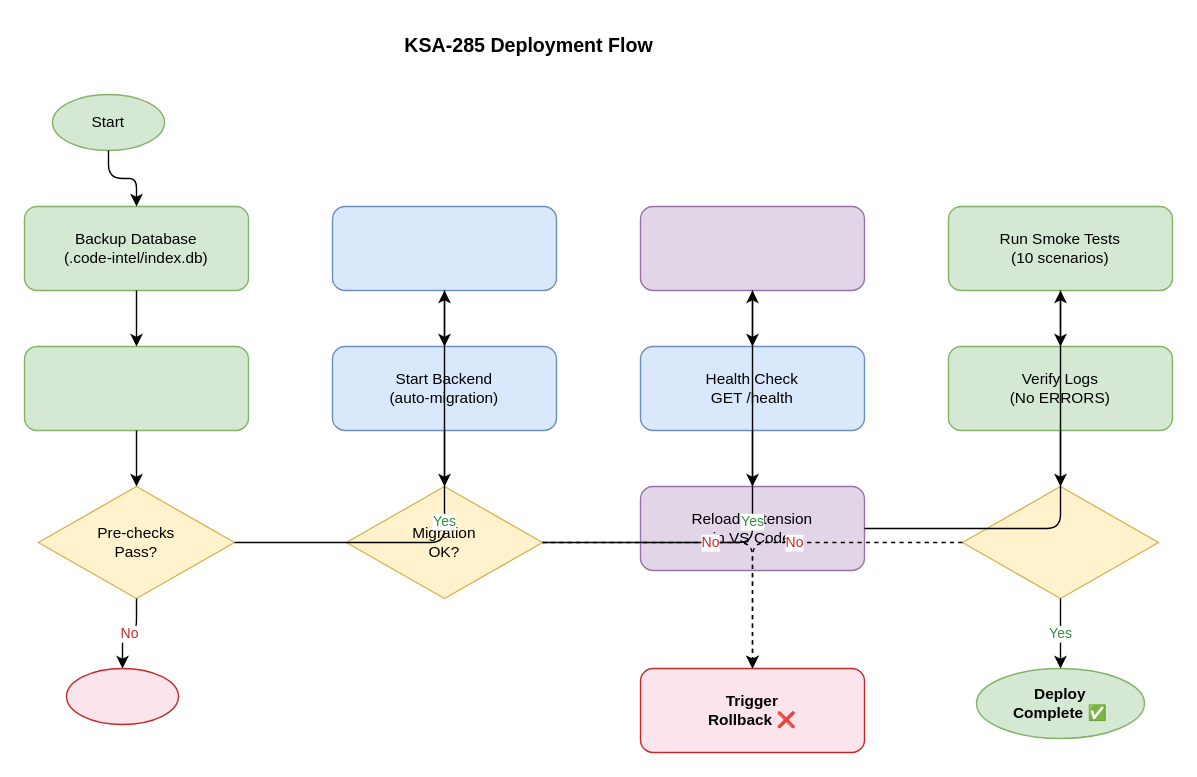
The diagram is 1197 pixels wide and 777 high, and some of its shapes have lost their labels. Here are the shapes that lost their labels. From the top down, the centre of each, then its label:
At pixel 443 247: "Build Backend (npm run build)".
At pixel 751 247: "Build Extension (npm run build)".
At pixel 135 387: "Stop Backend Server".
At pixel 1059 541: "All Pass?".
At pixel 121 695: "Abort".
